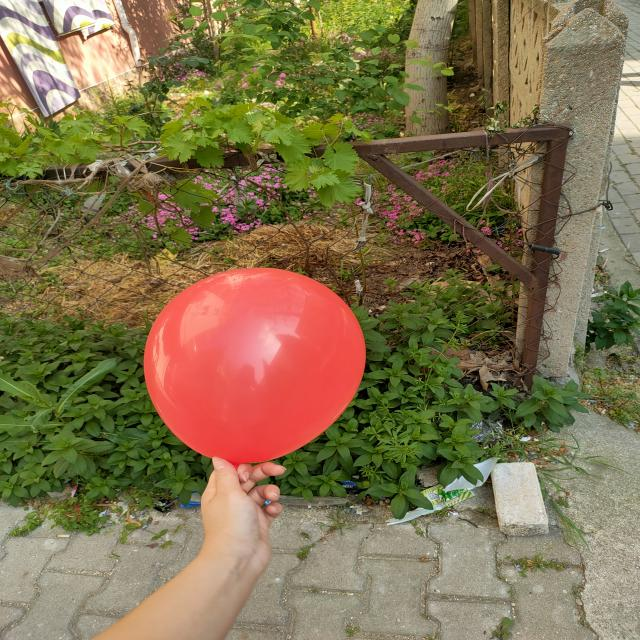red: (145, 269, 363, 465)
